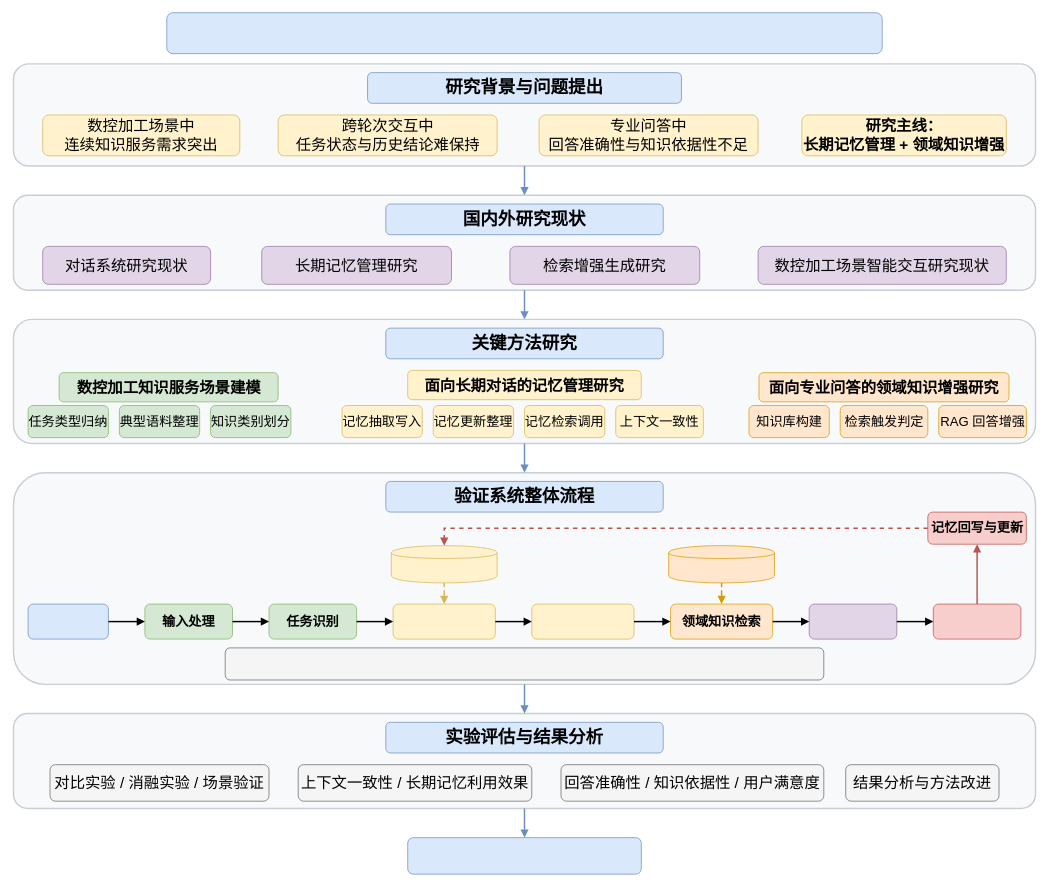
This 1048x887 diagram has some shape labels left out. Each missing label, with the centre of its shape:
"回答生成" belongs at point 852,621.
"回答输出" belongs at point 977,621.
"用户输入" belongs at point 67,621.
"知识增强判断" belongs at point 582,621.
"系统主流程：用户输入 → 任务识别 → 记忆调用 → 知识增强 → 回答生成 → 记忆回写" belongs at point 524,663.
"结论与展望" belongs at point 524,855.
"长期记忆召回" belongs at point 443,621.
"长期记忆库" belongs at point 444,564.
"面向数控加工的长期记忆与知识增强对话系统研究技术路线图" belongs at point 524,33.
"领域知识库" belongs at point 721,564.
